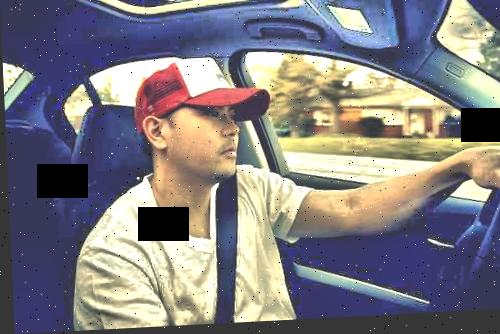seatbelt: (187, 148, 248, 321)
